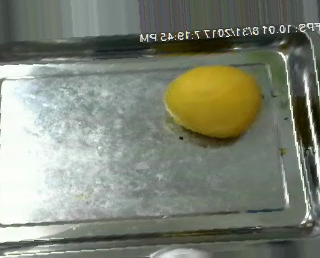Mango: (166, 63, 263, 139)
